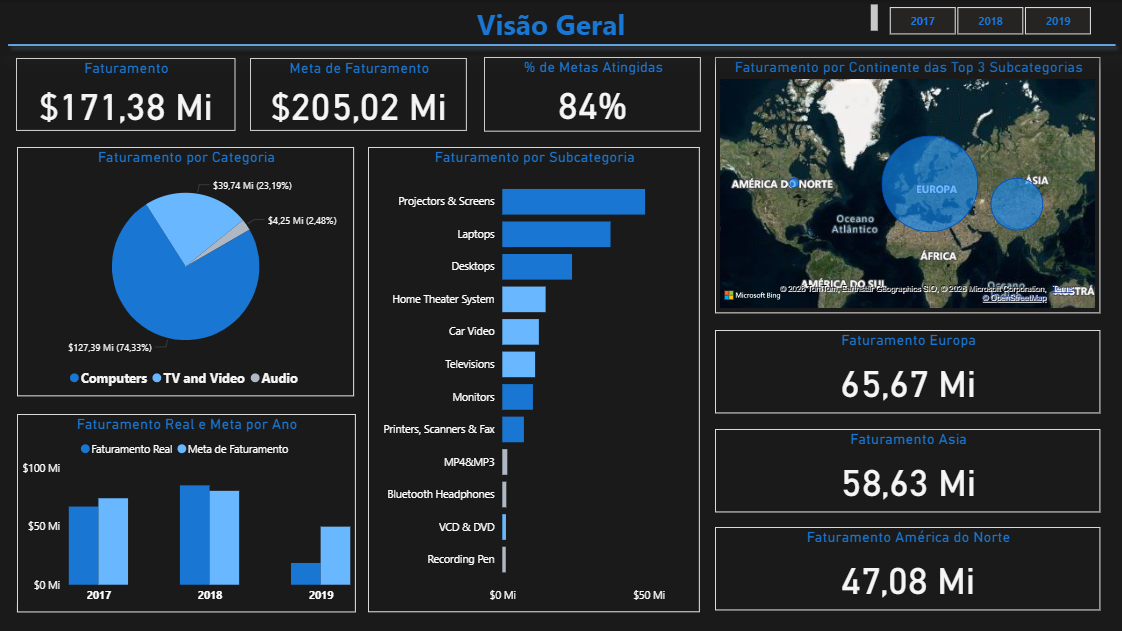

The dashboard page shown, as its layout file describes it:
{"tool":"powerbi","page":{"name":"Página 1","canvas":[1280,720],"ordinal":0},"visuals":[{"type":"lineClusteredColumnComboChart","title":"Faturamento Real e Meta por Ano","fields":{"Y":["Medidas.Faturamento","Sum(fMetas.Valor Meta)"],"Category":["dCalendario.Ano"]},"box":[19.2,471.5,385.7,225.5],"z":0},{"type":"pieChart","title":"Faturamento por Categoria","fields":{"Category":["dProduto.Categoria"],"Y":["Medidas.Faturamento"]},"box":[19.6,167.6,384.2,283.9],"z":1000},{"type":"barChart","title":"Faturamento por Subcategoria","fields":{"Category":["dProduto.Subcategoria"],"Y":["Medidas.Faturamento"],"Series":["dProduto.Categoria"]},"box":[419.7,167.6,378.1,529.9],"z":2000},{"type":"map","title":"Faturamento por Continente das Top 3 Subcategorias","fields":{"Category":["dCliente.Continente","dProduto.Subcategoria"],"Size":["Medidas.Faturamento"]},"box":[814.9,65.3,439.5,292.1],"z":3000},{"type":"slicer","fields":{"Values":["dCalendario.Ano"]},"box":[987.9,1.3,279.3,44.8],"z":4000},{"type":"shape","box":[0,40,1280,22.9],"z":5000},{"type":"card","title":"% de Metas Atingidas","fields":{"Values":["Medidas.% Atingimento da Meta"]},"box":[551,65.3,247.3,84.6],"z":6000},{"type":"card","title":"Meta de Faturamento","fields":{"Values":["Medidas.Meta"]},"box":[284.4,66.6,247.3,83.3],"z":7000},{"type":"card","title":"Faturamento","fields":{"Values":["Medidas.Faturamento"]},"box":[17.9,66.6,249.8,83.3],"z":8000},{"type":"textbox","box":[0,0,1004.5,46.1],"z":9000},{"type":"card","title":"Faturamento Europa","fields":{"Values":["Medidas.11 Faturamento Europa"]},"box":[815,375.7,439.3,95.4],"z":10000},{"type":"card","title":"Faturamento Asia","fields":{"Values":["Medidas.12 Faturamento Asia"]},"box":[815,488.3,439.3,95.4],"z":11000},{"type":"card","title":"Faturamento América do Norte","fields":{"Values":["Medidas.13 Faturamento América do Norte"]},"box":[815,600.8,439.3,95.4],"z":12000}]}

Visuals, with their boxes in screenshot pixels (x1, y1, x2, y2), scaled from the page's 1280x720 canvas onto the 1122x631 screenshot:
"Faturamento Real e Meta por Ano" lineClusteredColumnComboChart: [17, 413, 355, 611]
"Faturamento por Categoria" pieChart: [17, 147, 354, 396]
"Faturamento por Subcategoria" barChart: [368, 147, 699, 611]
"Faturamento por Continente das Top 3 Subcategorias" map: [714, 57, 1100, 313]
slicer - dCalendario.Ano: [866, 1, 1111, 40]
shape: [0, 35, 1121, 55]
"% de Metas Atingidas" card: [483, 57, 700, 131]
"Meta de Faturamento" card: [249, 58, 466, 131]
"Faturamento" card: [16, 58, 235, 131]
textbox: [0, 0, 881, 40]
"Faturamento Europa" card: [714, 329, 1099, 413]
"Faturamento Asia" card: [714, 428, 1099, 512]
"Faturamento América do Norte" card: [714, 527, 1099, 610]
